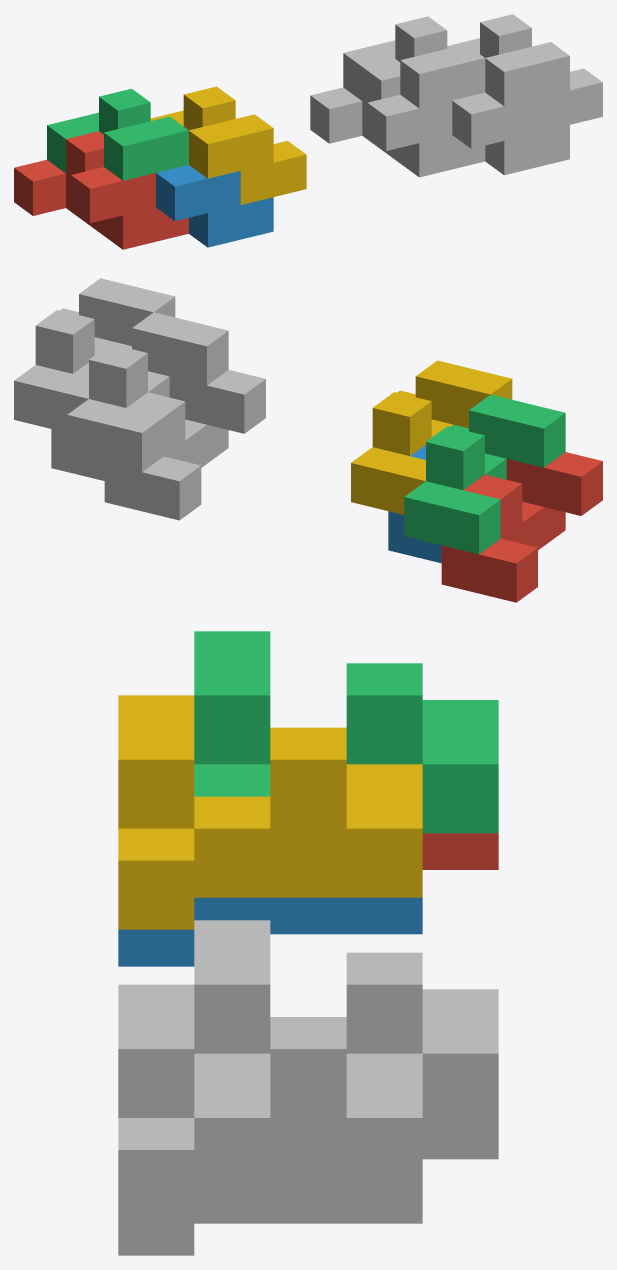
The model's file is tiling.obj.
3 renders of one model, top to bottom at view 1: azimuth 30°, elevation 25°; view 2: azimuth 150°, elevation 25°; view 3: azimuth 270°, elevation 25°, orthographic. The views are drawn at different scales.
Parts seen in each view (by area): view 1: copy_1_domain_5, copy_1_domain_1, copy_1_domain_4, copy_1_domain_8, copy_1_domain_7, copy_1_domain_3, copy_1_domain_2, copy_1_domain_6; view 2: copy_1_domain_7, copy_1_domain_3, copy_1_domain_5, copy_1_domain_1, copy_1_domain_4, copy_1_domain_8, copy_1_domain_2, copy_1_domain_6; view 3: copy_1_domain_4, copy_1_domain_8, copy_1_domain_7, copy_1_domain_3, copy_1_domain_6, copy_1_domain_2, copy_1_domain_5, copy_1_domain_1.
Boxes of the visible parts, x1,y1,x2,y2 form: copy_1_domain_5: (310, 59, 485, 177); copy_1_domain_1: (14, 131, 188, 249); copy_1_domain_4: (150, 86, 306, 204); copy_1_domain_8: (447, 14, 602, 132); copy_1_domain_7: (343, 16, 485, 108); copy_1_domain_3: (47, 88, 188, 180); copy_1_domain_2: (156, 165, 273, 247); copy_1_domain_6: (452, 92, 569, 175); copy_1_domain_7: (67, 312, 228, 471); copy_1_domain_3: (404, 394, 565, 554); copy_1_domain_5: (104, 370, 265, 520); copy_1_domain_1: (441, 452, 602, 602); copy_1_domain_4: (351, 360, 512, 514); copy_1_domain_8: (14, 278, 175, 432); copy_1_domain_2: (388, 445, 441, 563); copy_1_domain_6: (51, 362, 104, 480); copy_1_domain_4: (118, 695, 422, 929); copy_1_domain_8: (118, 984, 422, 1218); copy_1_domain_7: (194, 920, 498, 1122); copy_1_domain_3: (194, 631, 498, 833); copy_1_domain_6: (118, 1187, 422, 1255); copy_1_domain_2: (118, 897, 422, 966); copy_1_domain_5: (422, 1122, 498, 1159); copy_1_domain_1: (422, 833, 498, 869).
Size of the model in its own units: 15 by 3 by 5.
